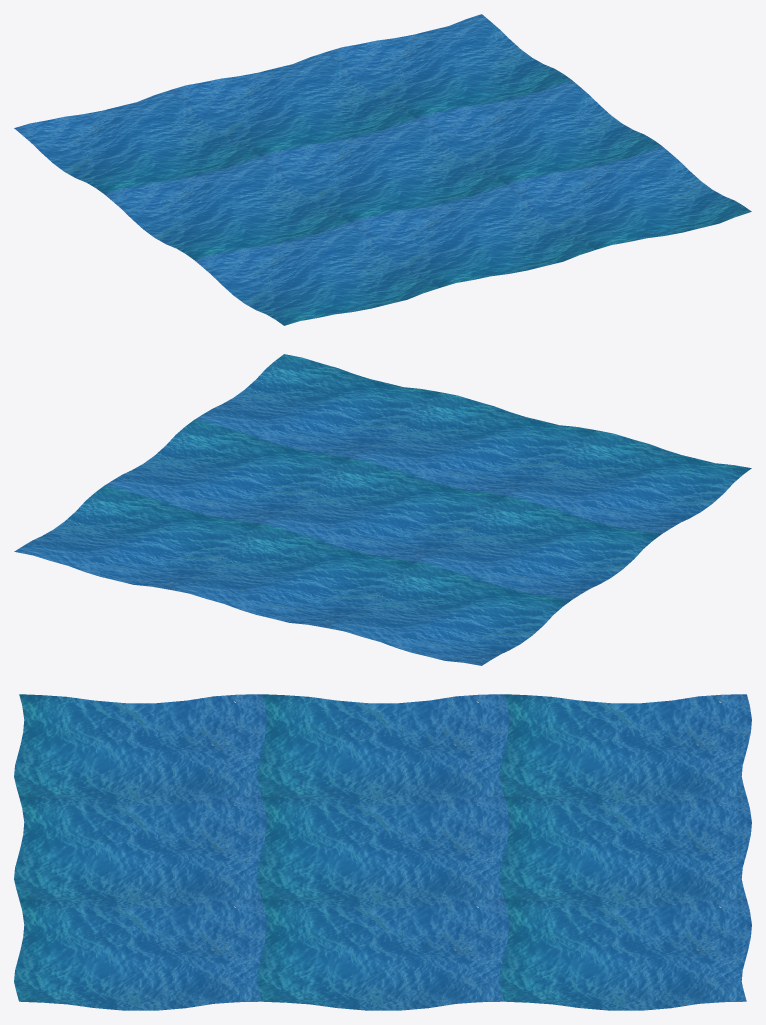
File: ocean_000147.obj
3 renders of one model, top to bottom at view 1: azimuth 30°, elevation 25°; view 2: azimuth 150°, elevation 25°; view 3: azimuth 270°, elevation 25°, orthographic. The views are drawn at different scales.
Visible parts, largest first — view 1: Ocean_Plan.001; view 2: Ocean_Plan.001; view 3: Ocean_Plan.001.
Boxes of the visible parts, box(x1,y1,x2,y2) form: Ocean_Plan.001: box(14, 14, 751, 325); Ocean_Plan.001: box(14, 354, 751, 665); Ocean_Plan.001: box(14, 694, 751, 1010).
Size of the model in its own units: 109157 by 2305 by 110507.
1 material, 1 textured.
